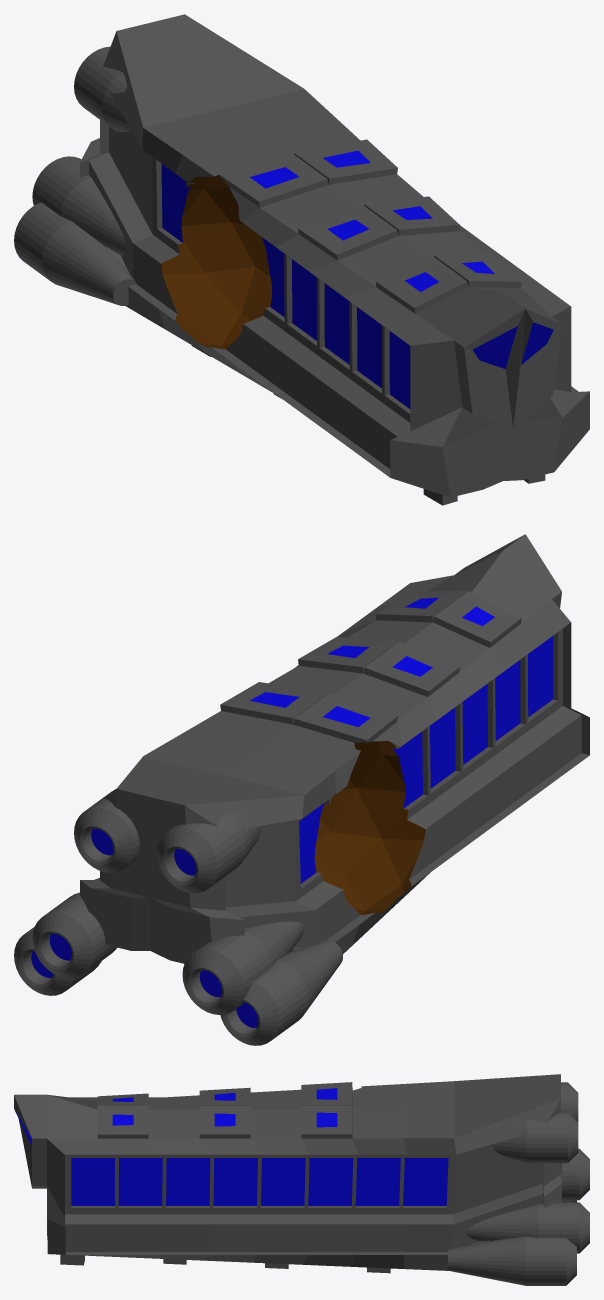
The model's file is BigShip.fbx.
3 renders of one model, top to bottom at view 1: azimuth 30°, elevation 25°; view 2: azimuth 150°, elevation 25°; view 3: azimuth 270°, elevation 25°, orthographic. The views are drawn at different scales.
Visible parts, largest first — view 1: Cube.001; view 2: Cube.001; view 3: Cube.001.
Boxes of the visible parts, <box> form: Cube.001: <box>14,14,589,505</box>; Cube.001: <box>14,534,589,1045</box>; Cube.001: <box>14,1074,589,1285</box>.
Bounding box in the file's own units: 331 × 262 × 850.
